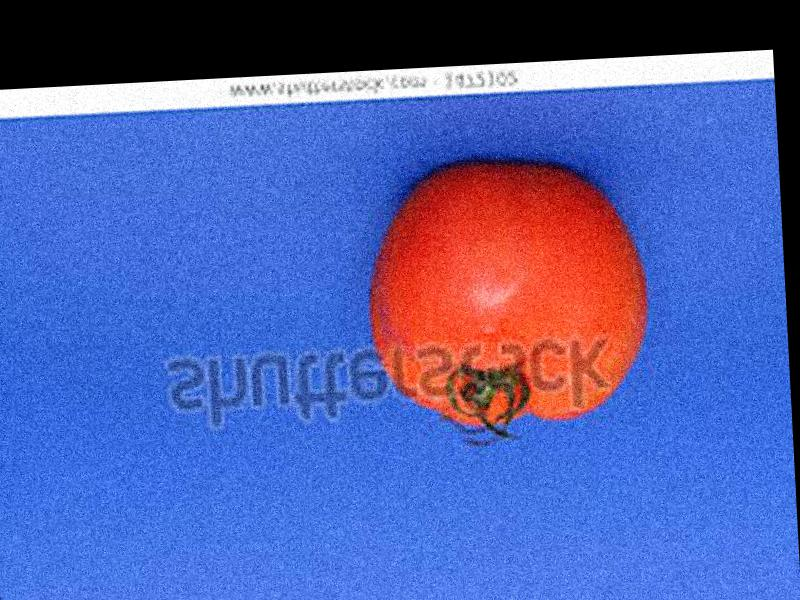Tomato: (367, 158, 658, 433)
